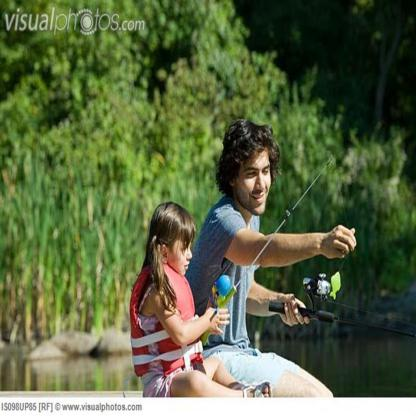face: (238, 149, 273, 215), (171, 233, 194, 277)
